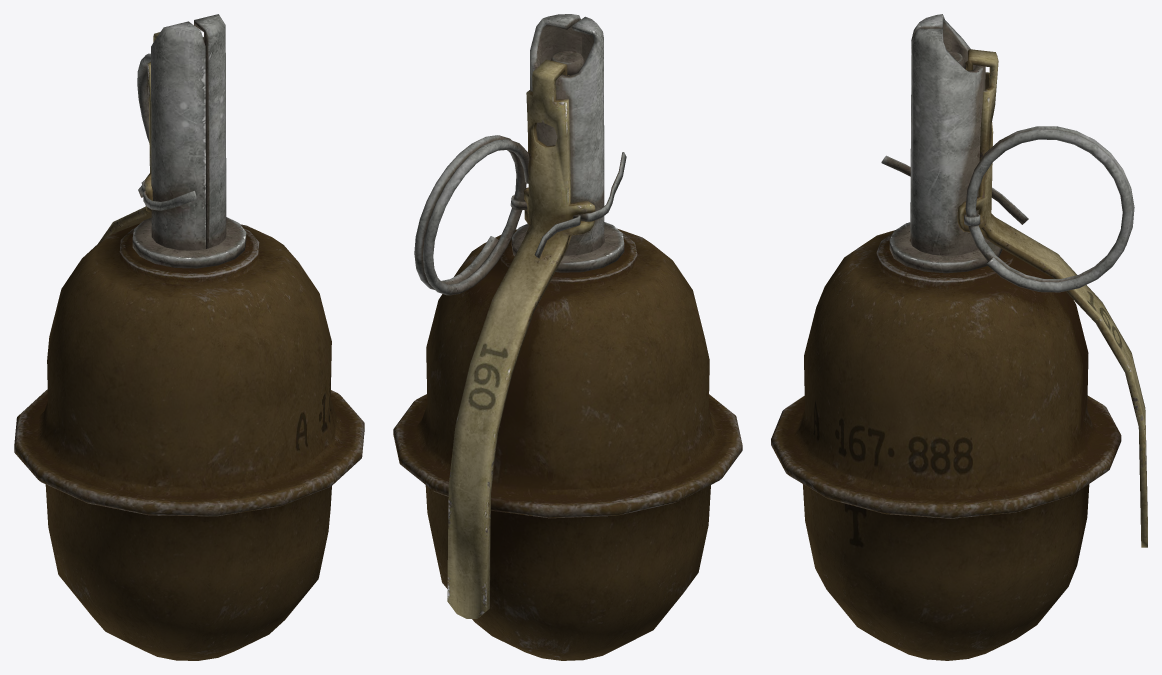
Rendered from rgd5.glb.
3 renders of one model, left to right at view 1: azimuth 30°, elevation 25°; view 2: azimuth 150°, elevation 25°; view 3: azimuth 270°, elevation 25°, orthographic.
Visible parts, largest first — view 1: rgd_5_main_low, rgd_5_zapal_low, rgd_5_cheka_low, rgd_5_extractor_low; view 2: rgd_5_main_low, rgd_5_extractor_low, rgd_5_zapal_low, rgd_5_cheka_low; view 3: rgd_5_main_low, rgd_5_zapal_low, rgd_5_extractor_low, rgd_5_cheka_low.
Part boxes in pixels (<box>): rgd_5_main_low: <box>14,223,364,660</box>; rgd_5_zapal_low: <box>132,14,246,268</box>; rgd_5_cheka_low: <box>137,53,197,210</box>; rgd_5_extractor_low: <box>98,32,159,243</box>; rgd_5_main_low: <box>393,228,742,660</box>; rgd_5_extractor_low: <box>447,59,595,618</box>; rgd_5_zapal_low: <box>511,14,624,272</box>; rgd_5_cheka_low: <box>414,135,626,295</box>; rgd_5_main_low: <box>771,230,1121,660</box>; rgd_5_zapal_low: <box>889,14,1002,273</box>; rgd_5_extractor_low: <box>957,49,1147,547</box>; rgd_5_cheka_low: <box>881,126,1134,292</box>.
Bounding box in the file's own units: 178 × 348 × 191.
Materials: 1 (1 with a texture image).
